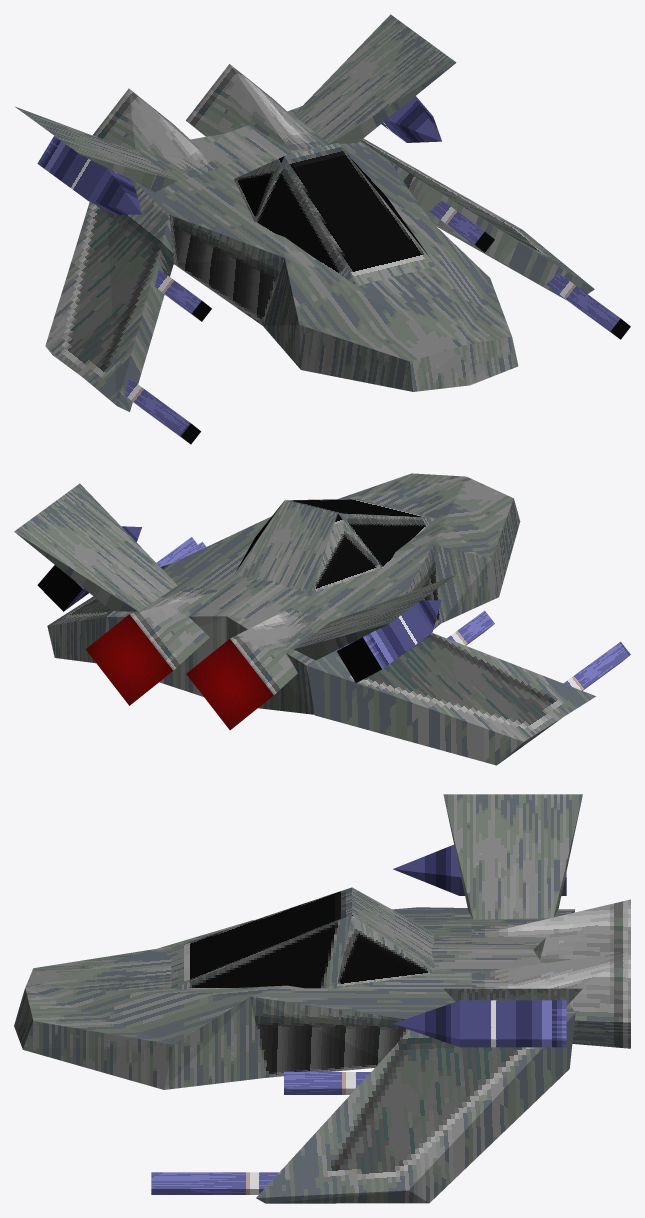
File: Pyro_GX.obj
3 renders of one model, top to bottom at view 1: azimuth 30°, elevation 25°; view 2: azimuth 150°, elevation 25°; view 3: azimuth 270°, elevation 25°, orthographic. The views are drawn at different scales.
Parts seen in each view (by area): view 1: Pyro_GX; view 2: Pyro_GX; view 3: Pyro_GX.
Part boxes in pixels (x1,y1,x2,y2): Pyro_GX: [15, 14, 630, 444]; Pyro_GX: [14, 473, 630, 765]; Pyro_GX: [14, 794, 630, 1203].
Bounding box in the file's own units: 7.57 × 2.84 × 8.
7 materials, 6 textured.
